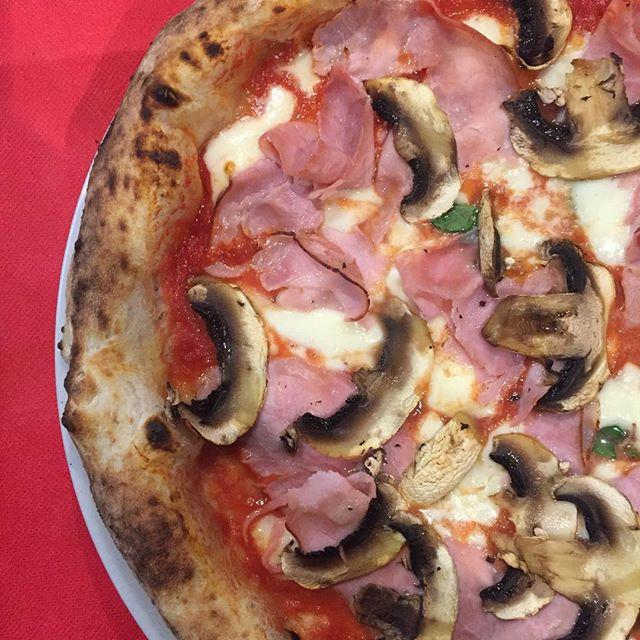champignon: (485, 242, 611, 417), (290, 301, 434, 454), (486, 433, 581, 622), (497, 60, 640, 181), (182, 273, 276, 453), (360, 69, 463, 230), (272, 481, 419, 591), (557, 470, 639, 640)
